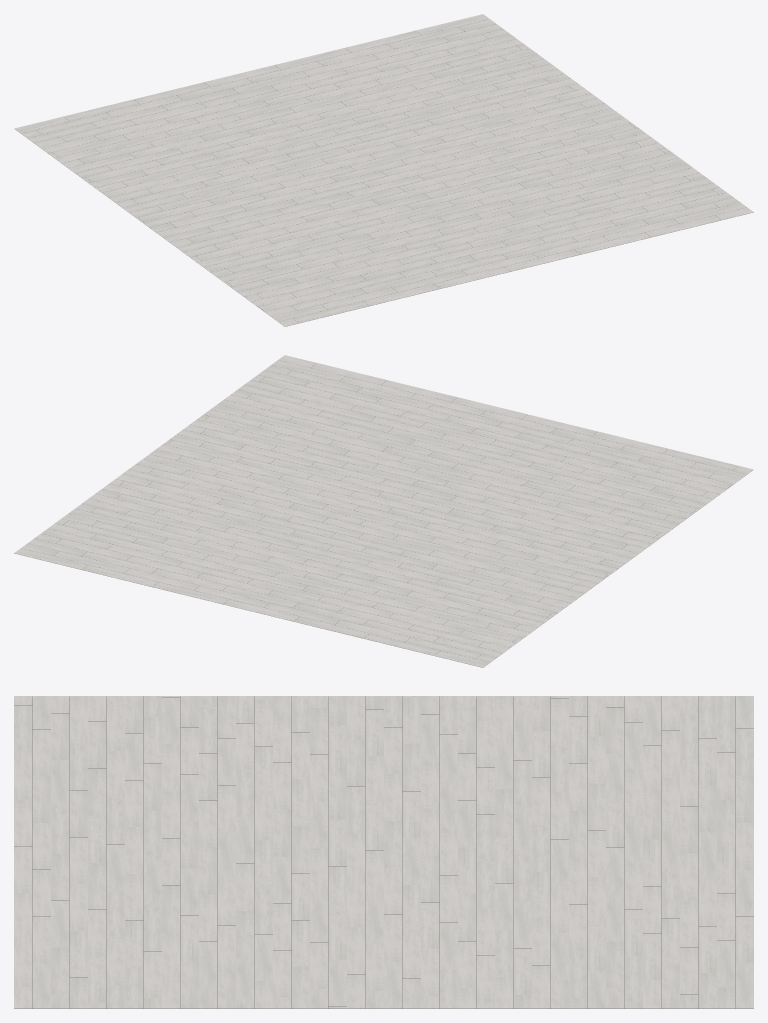
Rendered from liege-blanc-20x120.glb.
The picture shows the model from 3 angles, top to bottom: view 1: azimuth 30°, elevation 25°; view 2: azimuth 150°, elevation 25°; view 3: azimuth 270°, elevation 25°; orthographic projection. The views are drawn at different scales.
Parts seen in each view (by area): view 1: LiÃ¨ge Blanc; view 2: LiÃ¨ge Blanc; view 3: LiÃ¨ge Blanc.
Part boxes in pixels (left/top/right/bottom): LiÃ¨ge Blanc: left=14, top=14, right=753, bottom=326; LiÃ¨ge Blanc: left=14, top=355, right=753, bottom=667; LiÃ¨ge Blanc: left=14, top=696, right=753, bottom=1008.
Size of the model in its own units: 8 by 0.003 by 8.
2 materials, 1 textured.
